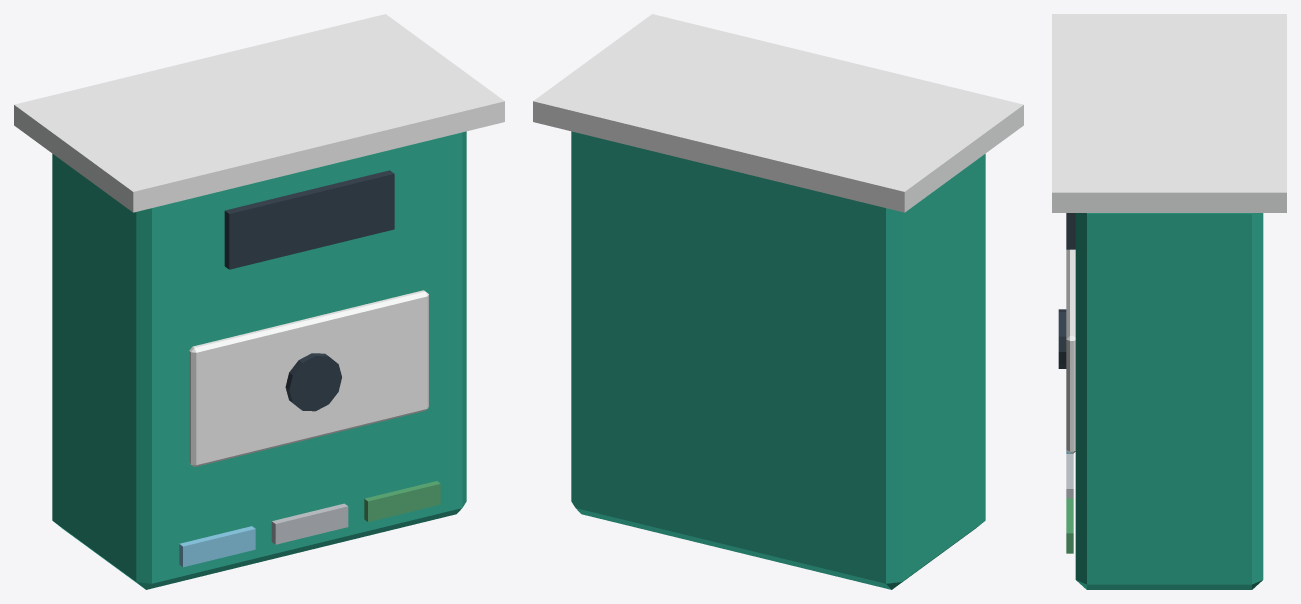
Rendered from machine_m.fbx.
3 views of the same model, side by side, from view 1: azimuth 30°, elevation 25°; view 2: azimuth 150°, elevation 25°; view 3: azimuth 270°, elevation 25° (orthographic).
Parts seen in each view (by area): view 1: machine_m; view 2: machine_m; view 3: machine_m.
Part boxes in pixels (x1,y1,x2,y2): machine_m: (14,14,504,589); machine_m: (533,14,1023,589); machine_m: (1052,14,1286,589).
Size of the model in its own units: 2.25 by 2.42 by 1.25.
